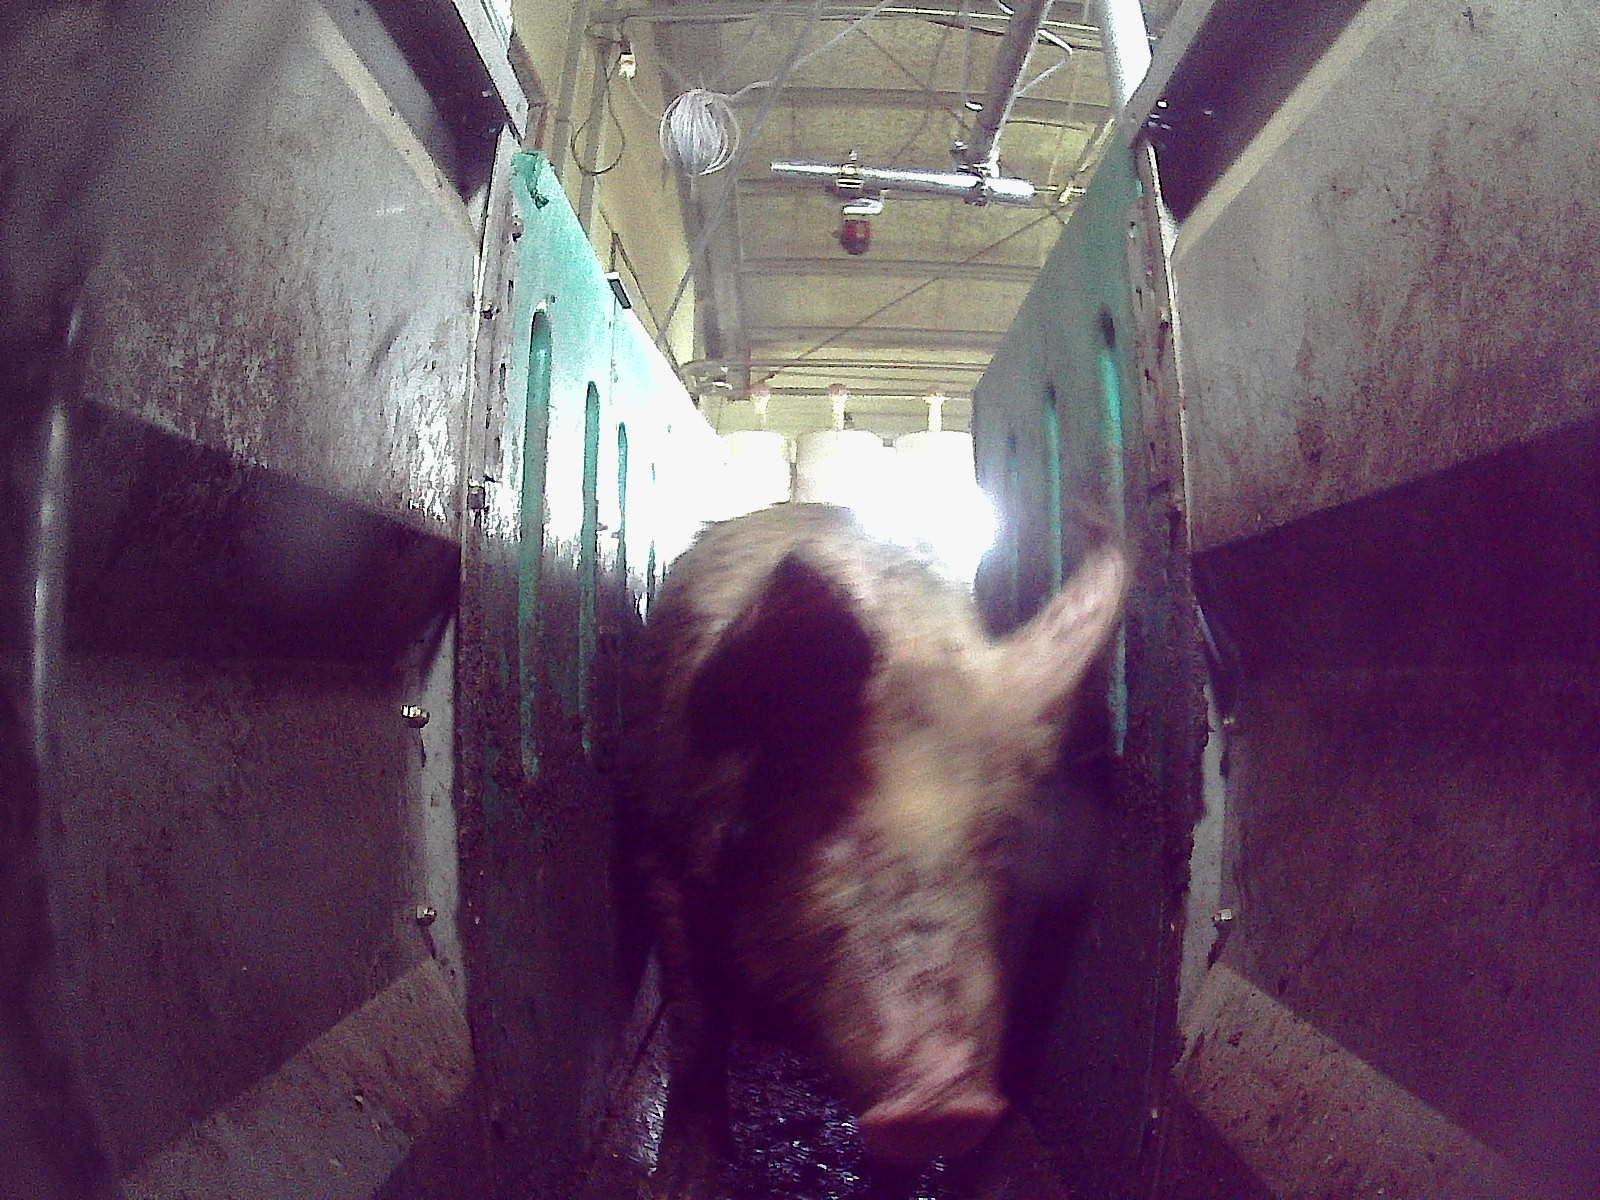Face: (758, 672, 1037, 1156)
